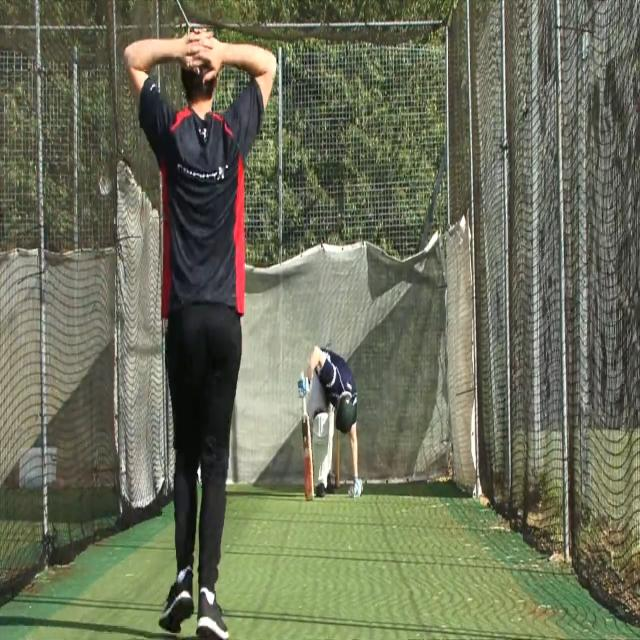batsman: (296, 340, 364, 504)
